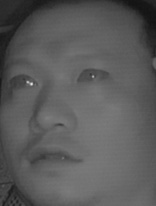eye: (9, 70, 41, 91), (76, 65, 108, 85)
mouth: (24, 137, 87, 174)
